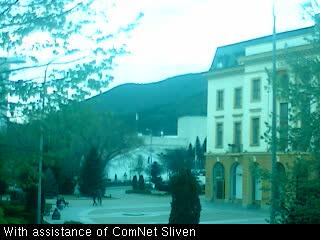person: (97, 190, 104, 206), (91, 190, 97, 207)
